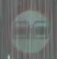No overtake: (8, 3, 51, 46)
